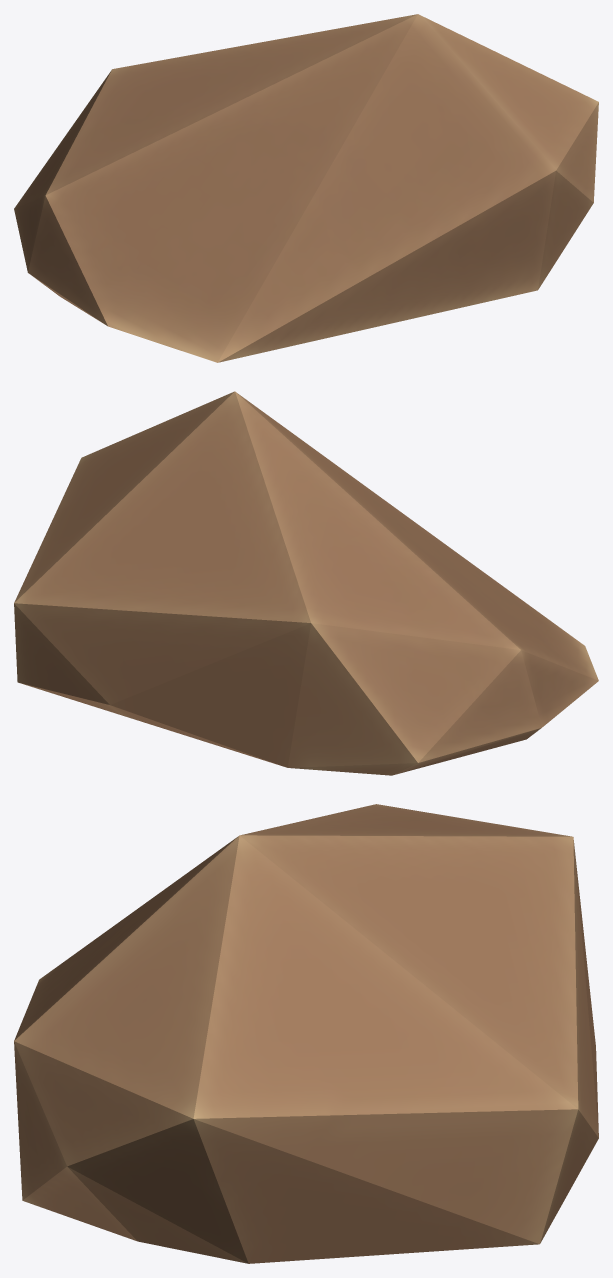
File: Rock_16.fbx
3 views of the same model, one above another, from view 1: azimuth 30°, elevation 25°; view 2: azimuth 150°, elevation 25°; view 3: azimuth 270°, elevation 25° (orthographic). The views are drawn at different scales.
Visible parts, largest first — view 1: Rock_16; view 2: Rock_16; view 3: Rock_16.
Part boxes in pixels (x1,y1,x2,y2): Rock_16: [14, 14, 598, 362]; Rock_16: [14, 391, 598, 775]; Rock_16: [14, 804, 598, 1263].
Size of the model in its own units: 40.4 by 17.59 by 27.92.
